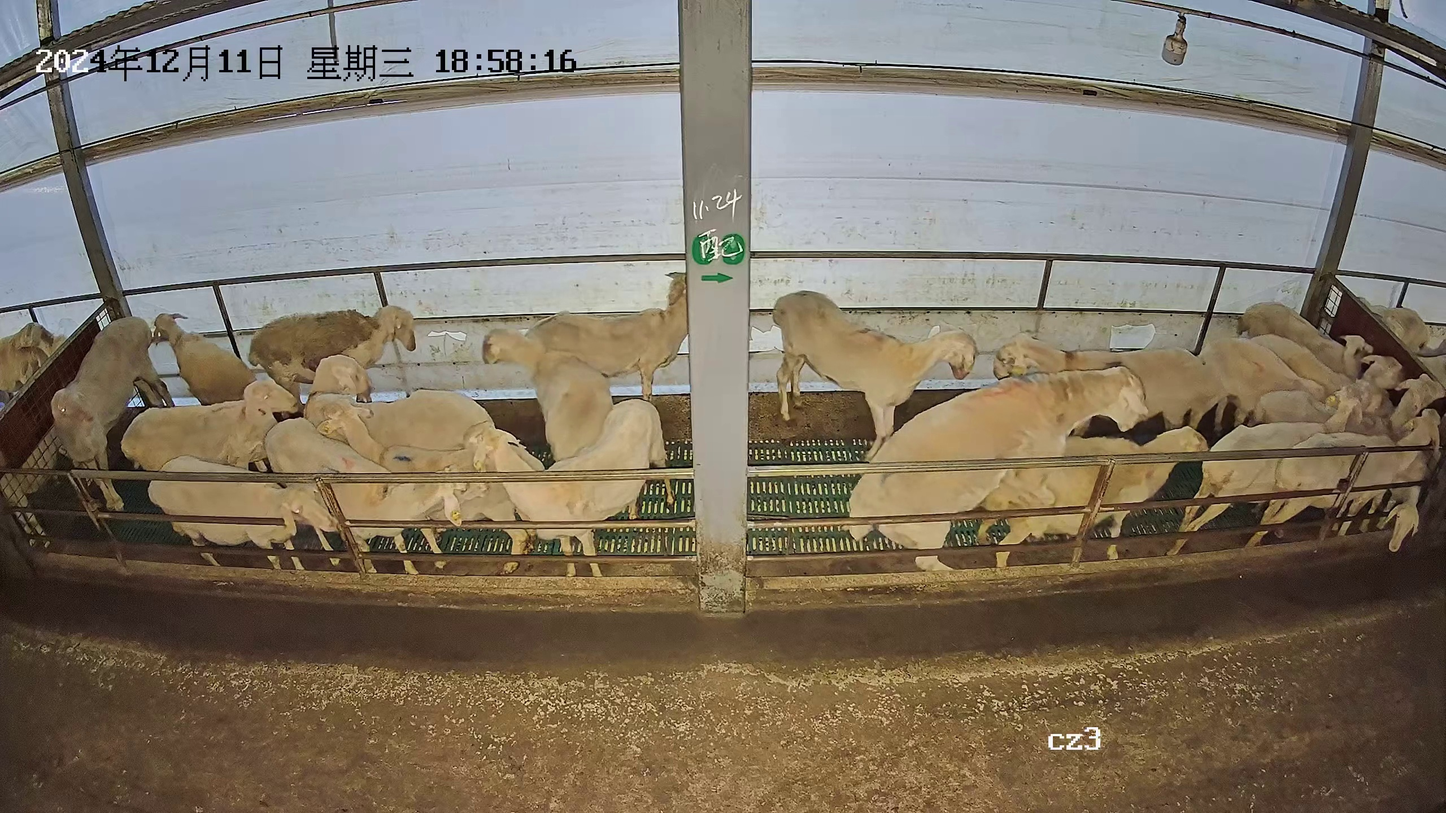Smounting: (843, 363, 1214, 572)
mounted: (973, 423, 1210, 569)
